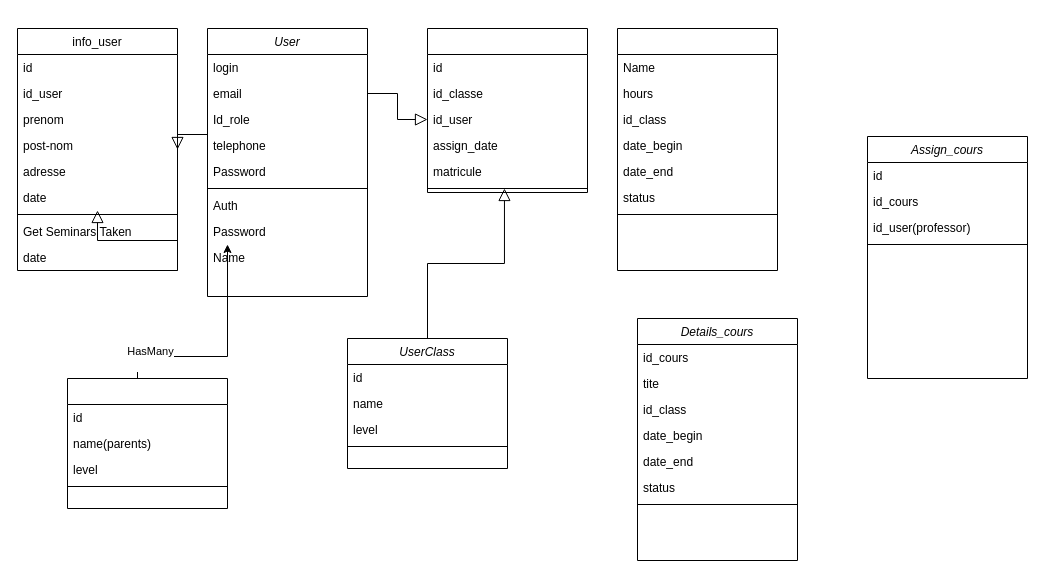
This 1045x578 diagram has some shape labels left out. The shapes that lost their labels are listed below. From the top down, each one's box as (x1, y1, x2, y2) in pixels, then its label:
(426, 28, 588, 192): Assign_students
(616, 28, 778, 270): Cours
(66, 378, 228, 508): Roles
